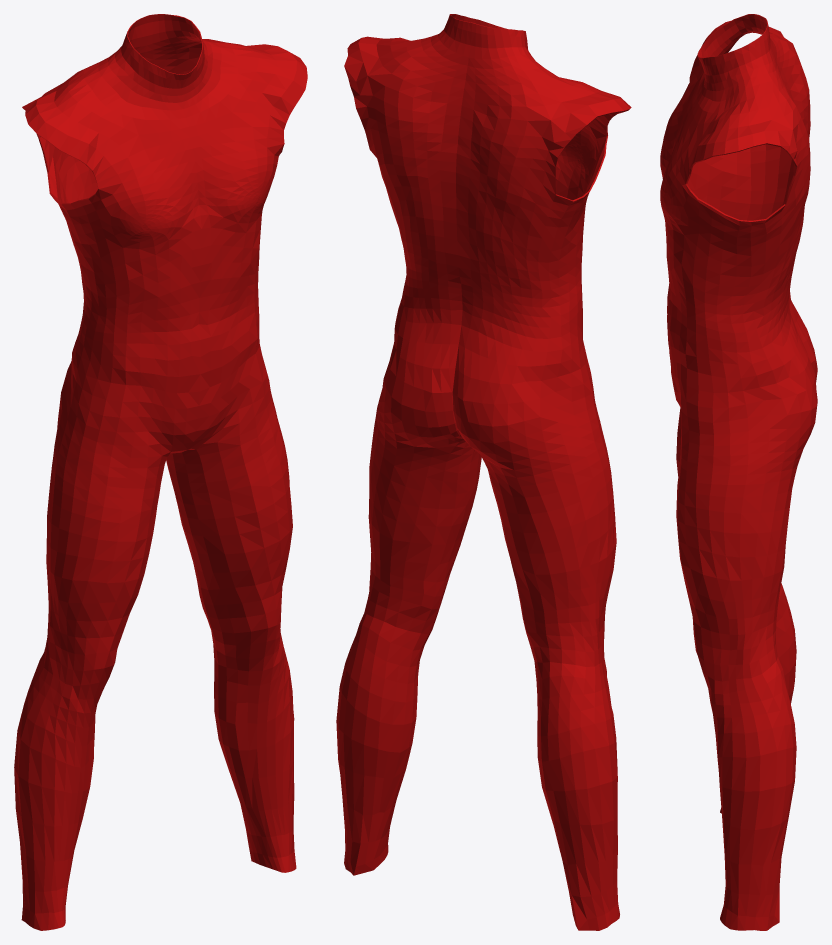
Rendered from mhw_culturalibre_hero_suit_2.glb.
3 renders of one model, left to right at view 1: azimuth 30°, elevation 25°; view 2: azimuth 150°, elevation 25°; view 3: azimuth 270°, elevation 25°, orthographic. The views are drawn at different scales.
Visible parts, largest first — view 1: mhw_culturalibre_hero_suit_2; view 2: mhw_culturalibre_hero_suit_2; view 3: mhw_culturalibre_hero_suit_2.
Boxes of the visible parts, x1,y1,x2,y2 form: mhw_culturalibre_hero_suit_2: [14, 14, 307, 930]; mhw_culturalibre_hero_suit_2: [336, 14, 631, 930]; mhw_culturalibre_hero_suit_2: [660, 14, 817, 930].
Size of the model in its own units: 0.5021 by 1.54 by 0.2592.
1 material, 1 textured.
